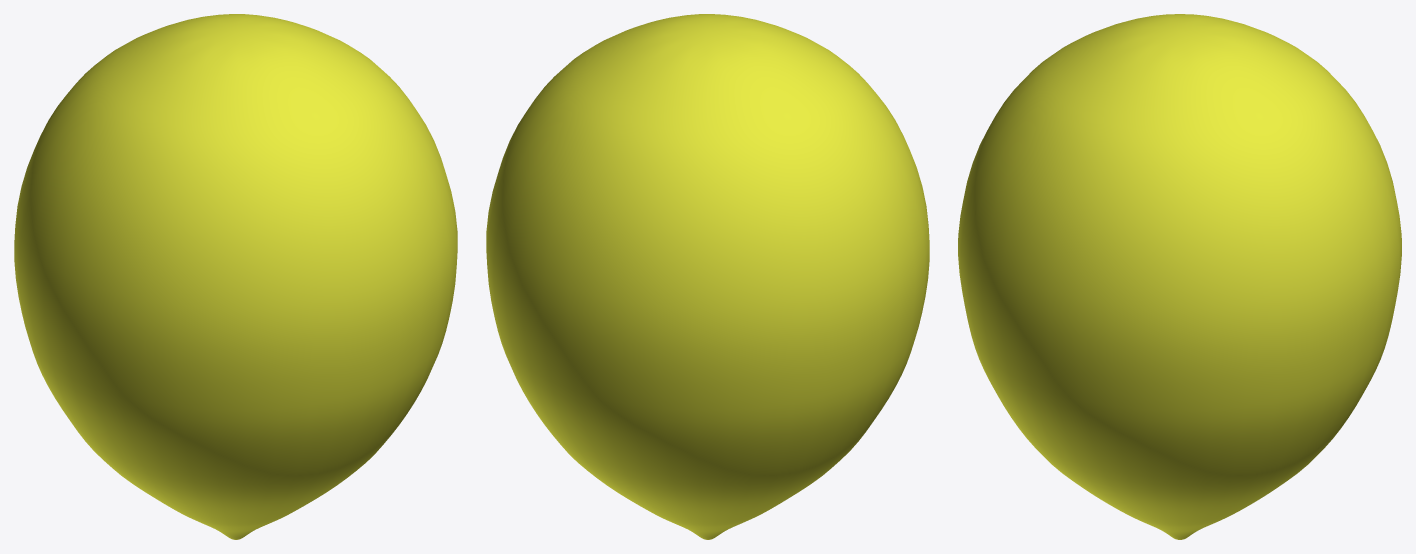
Rendered from fbx_BalloonRainbow.fbx.
3 renders of one model, left to right at view 1: azimuth 30°, elevation 25°; view 2: azimuth 150°, elevation 25°; view 3: azimuth 270°, elevation 25°, orthographic.
Parts seen in each view (by area): view 1: balloon02; view 2: balloon02; view 3: balloon02.
Boxes of the visible parts, box(x1,y1,x2,y2) form: balloon02: box(14, 14, 457, 539); balloon02: box(486, 14, 929, 539); balloon02: box(958, 14, 1401, 539).
Size of the model in its own units: 4.95 by 6.22 by 4.94.
